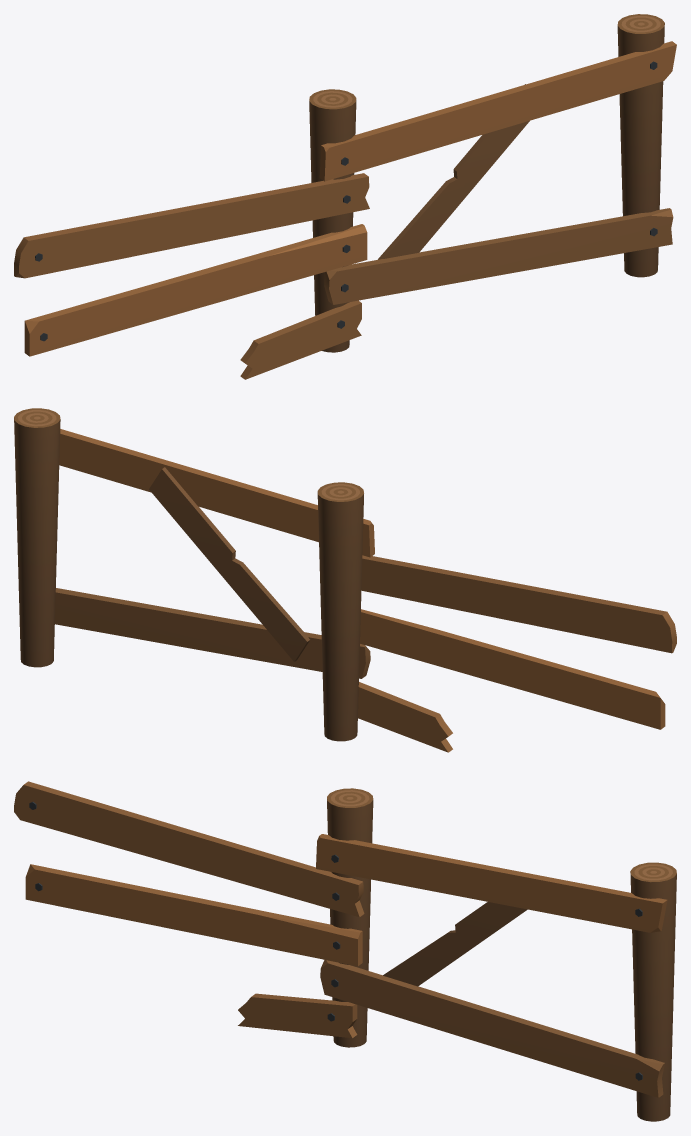
Rendered from Fence_02.glb.
3 renders of one model, top to bottom at view 1: azimuth 30°, elevation 25°; view 2: azimuth 150°, elevation 25°; view 3: azimuth 330°, elevation 25°, orthographic.
Visible parts, largest first — view 1: Fence_02_LOD0; view 2: Fence_02_LOD0; view 3: Fence_02_LOD0.
Boxes of the visible parts, box(x1,y1,x2,y2) form: Fence_02_LOD0: box(14, 14, 676, 379); Fence_02_LOD0: box(14, 408, 676, 752); Fence_02_LOD0: box(14, 781, 676, 1121).
Size of what is drawn, in the model's own units: 2.53 by 0.9047 by 0.1762.
Materials: 1 (1 with a texture image).
